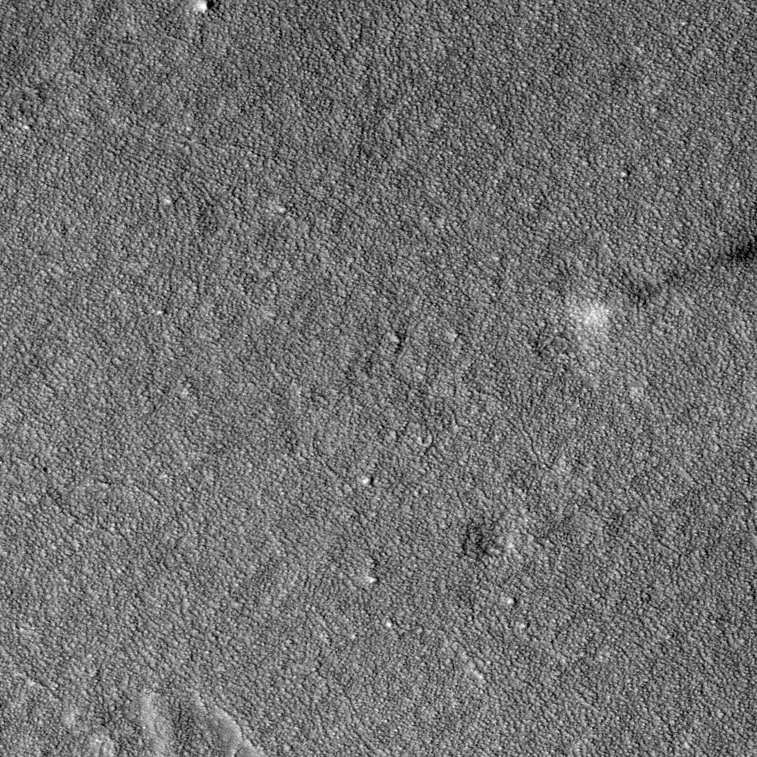dust_devil: (564, 228, 757, 340)
